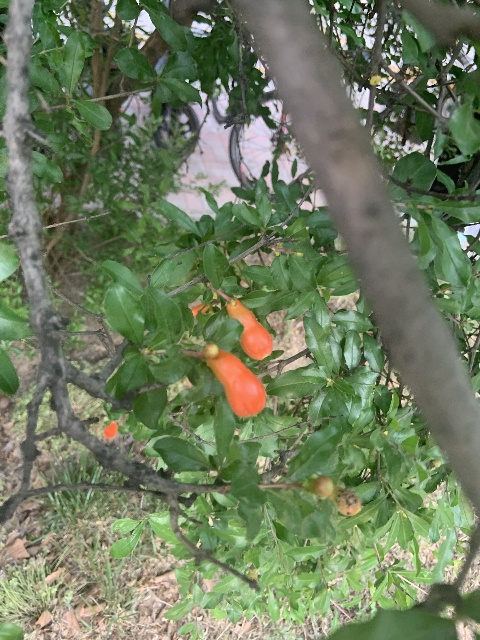bud: (206, 349, 265, 417), (226, 298, 272, 361), (329, 486, 362, 516), (306, 475, 332, 498), (201, 344, 218, 358)
